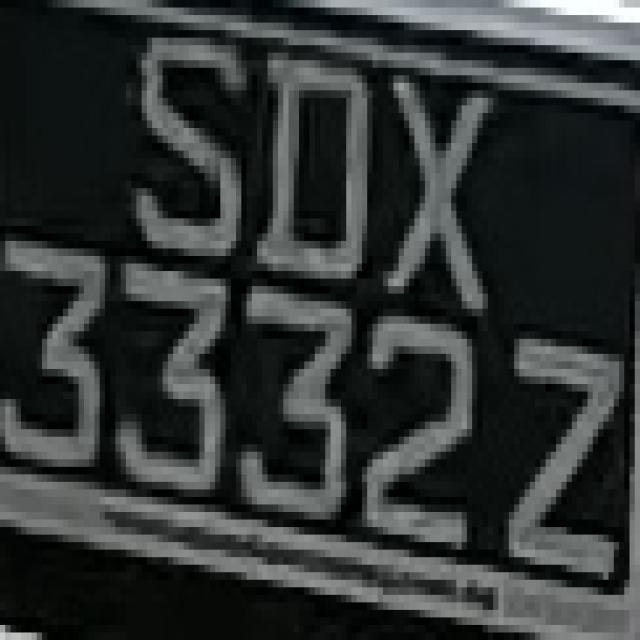2: (352, 278, 482, 564)
3: (226, 264, 362, 557), (110, 249, 226, 527), (5, 211, 116, 482)
D: (257, 45, 378, 324)
S: (115, 8, 236, 256)
X: (383, 52, 509, 324)
Z: (504, 309, 630, 595)
